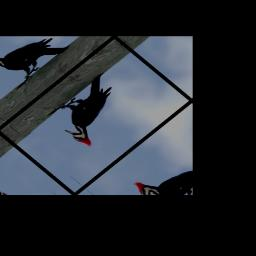Woodpecker: (45, 71, 142, 150)
